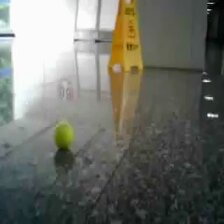tennis: (54, 121, 74, 149)
